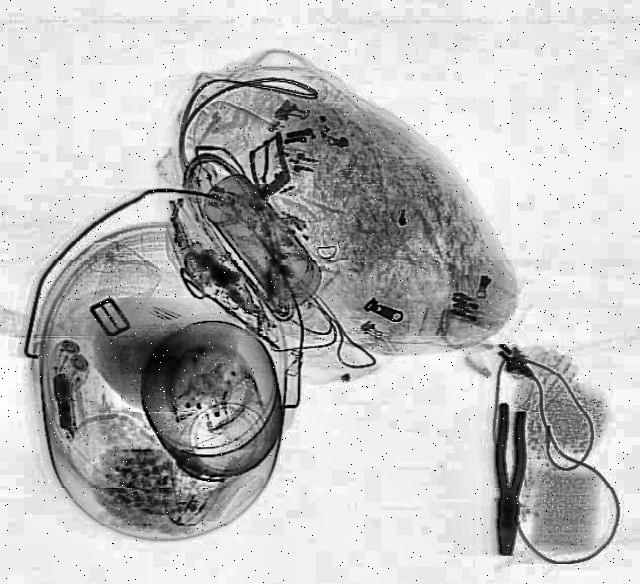Pliers: (492, 402, 528, 556)
